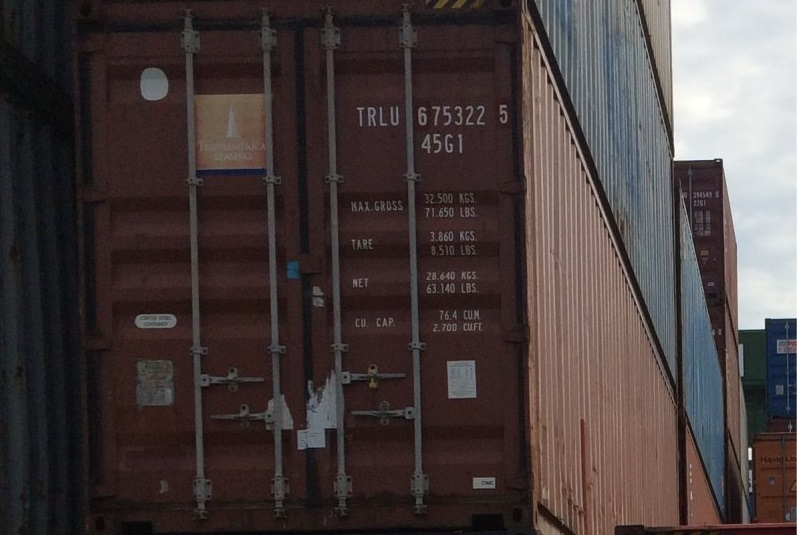container_door: (76, 25, 545, 534)
